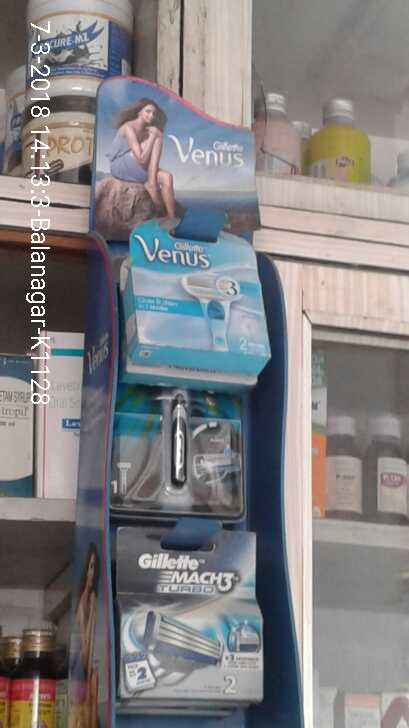beauty: (116, 530, 274, 703), (117, 211, 275, 372)
